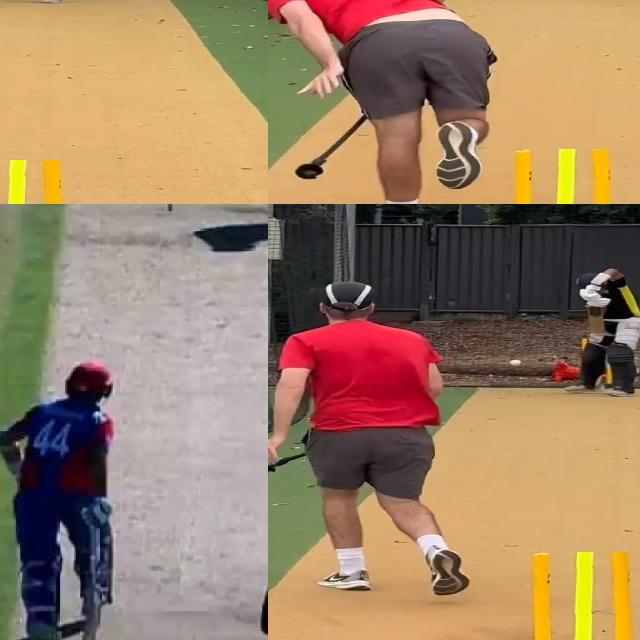Cricket ball: (508, 358, 524, 368)
Stumps: (508, 552, 640, 640), (494, 149, 627, 204)
